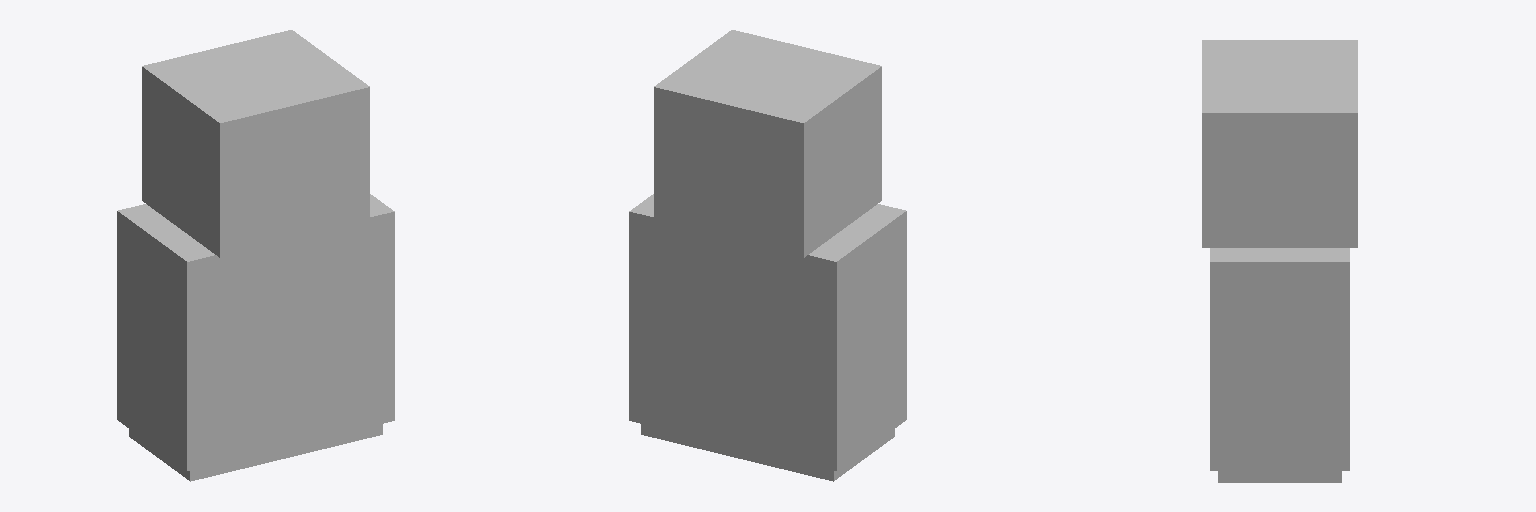
The model's file is body.obj.
3 renders of one model, left to right at view 1: azimuth 30°, elevation 25°; view 2: azimuth 150°, elevation 25°; view 3: azimuth 270°, elevation 25°, orthographic.
Parts seen in each view (by area): view 1: object 1; view 2: object 1; view 3: object 1.
Part boxes in pixels (x1,y1,x2,y2): object 1: (117,30,394,481); object 1: (629,30,906,481); object 1: (1202,40,1357,482).
Bounding box in the file's own units: 2.9 × 4.8 × 1.9.